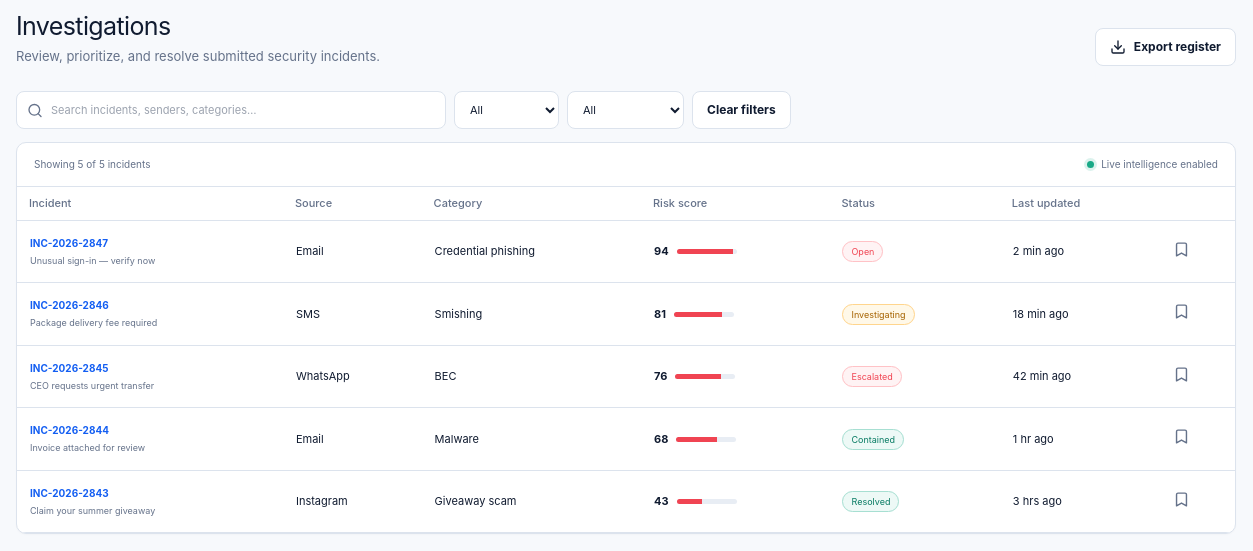
startup product workflows › filters incidents and toggles a bookmark
Type "delivery" into the field with placeholder "Search incidents, senders, categories…". click: {"x": 243, "y": 110}
box: [51, 102, 435, 118]
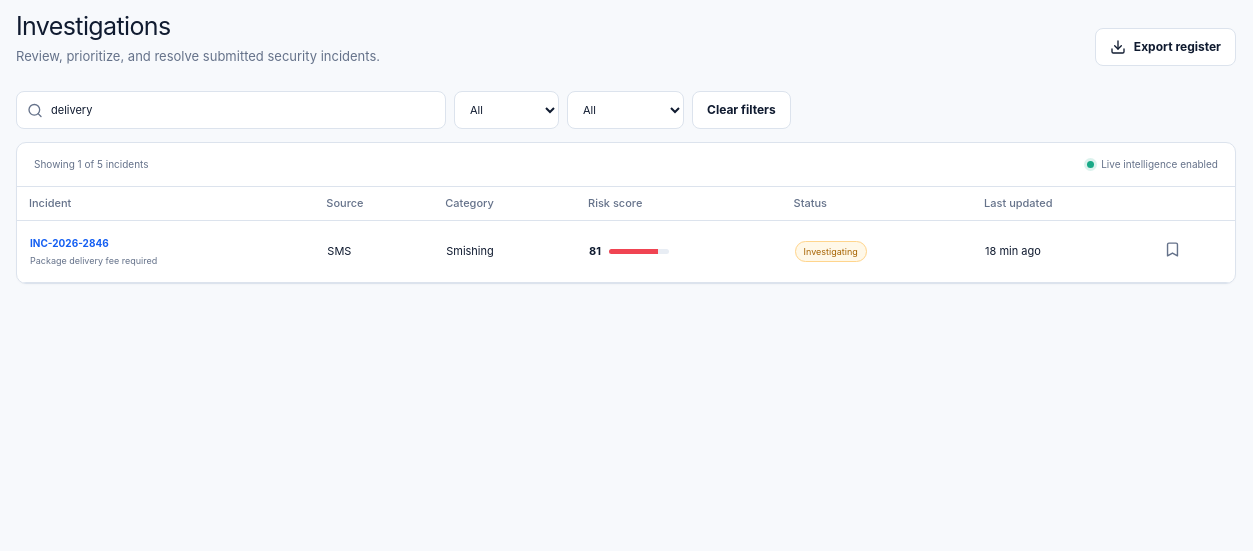
expect the text "INC-2026-2846" is shown: met, box [30, 237, 109, 249]
expect the text "INC-2026-2847" is gone: met
Click the button named "bookmark INC-2026-2846". click: {"x": 1173, "y": 249}
box: [1164, 241, 1182, 258]
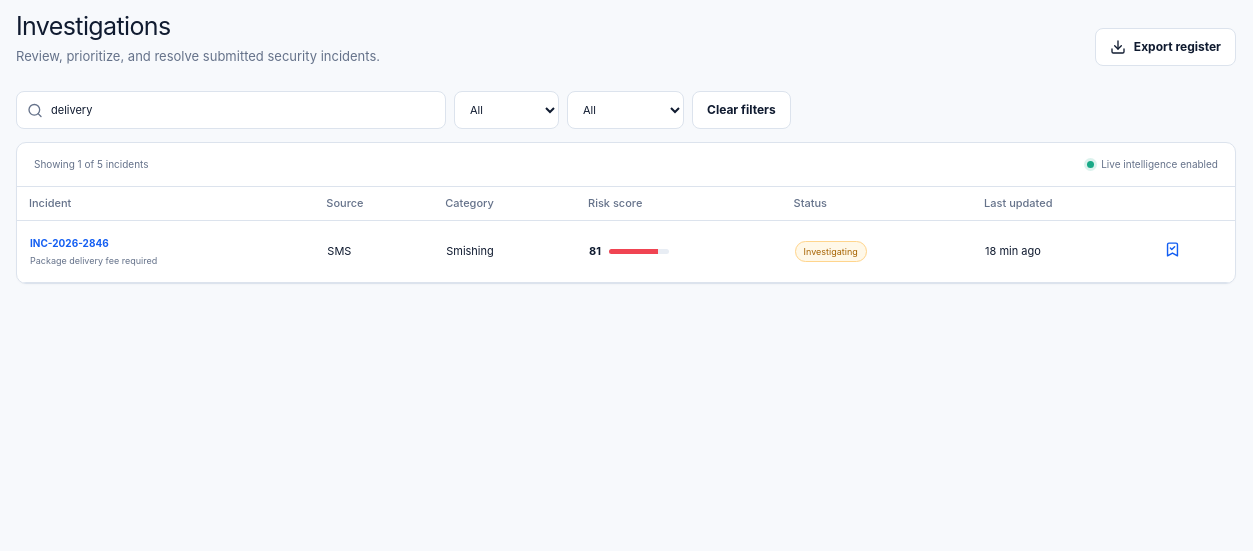
expect the button named "remove bookmark from INC-2026-2846" is shown: met, box [1164, 241, 1182, 258]
